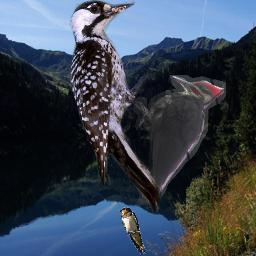Swallow: (118, 207, 147, 255)
Woodpecker: (68, 0, 160, 213), (133, 75, 226, 205)
